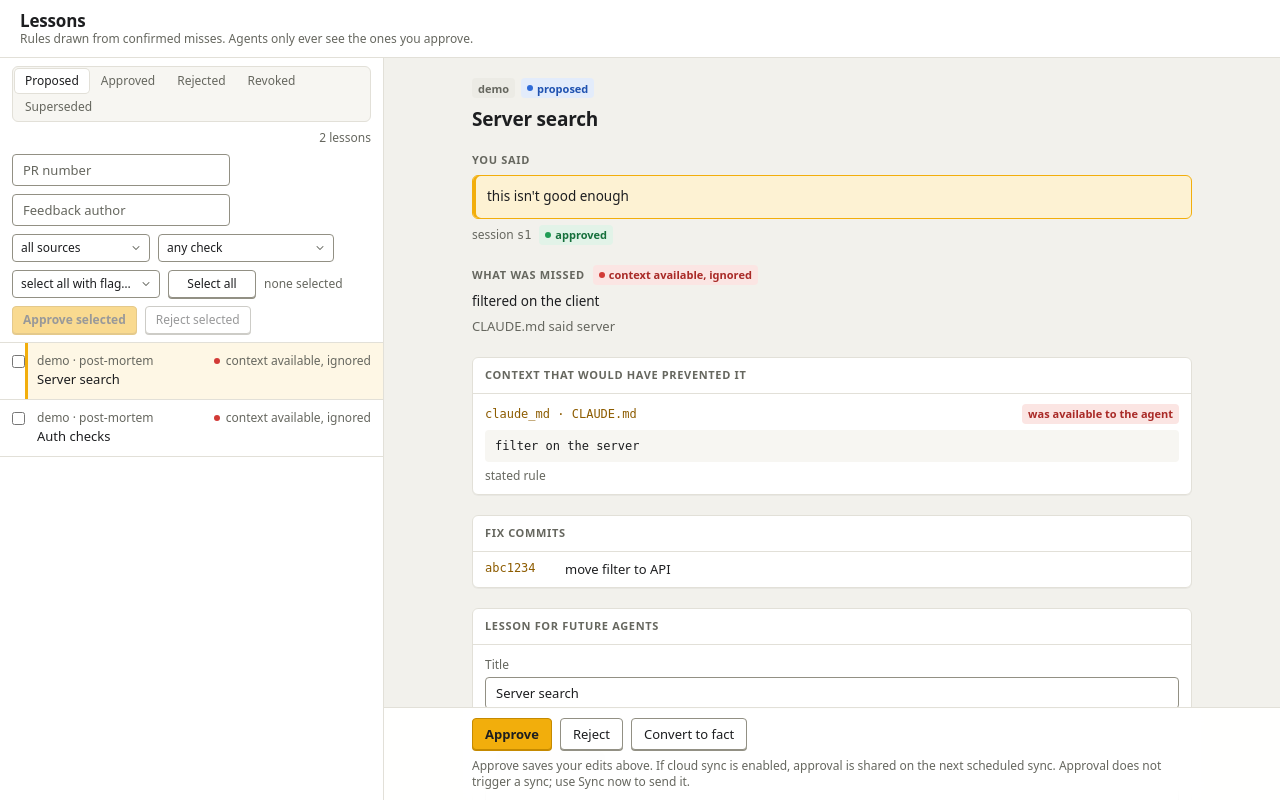
Test: an error goes away once the next change succeeds
Click the button "Reject": (591, 734) x1=560 y1=718 x2=623 y2=750
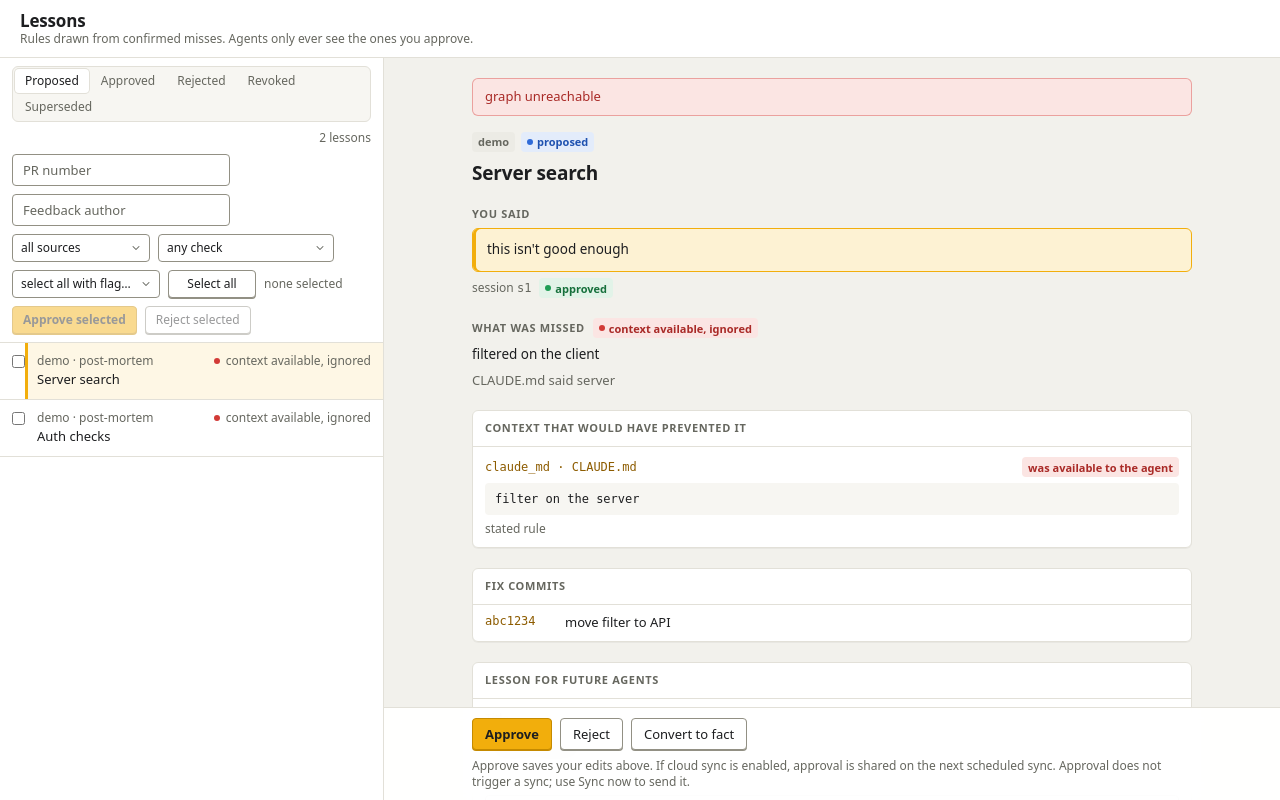
Now the text "graph unreachable" is shown, box x1=472 y1=78 x2=1192 y2=116
Click the button "Reject": (591, 734) x1=560 y1=718 x2=623 y2=750
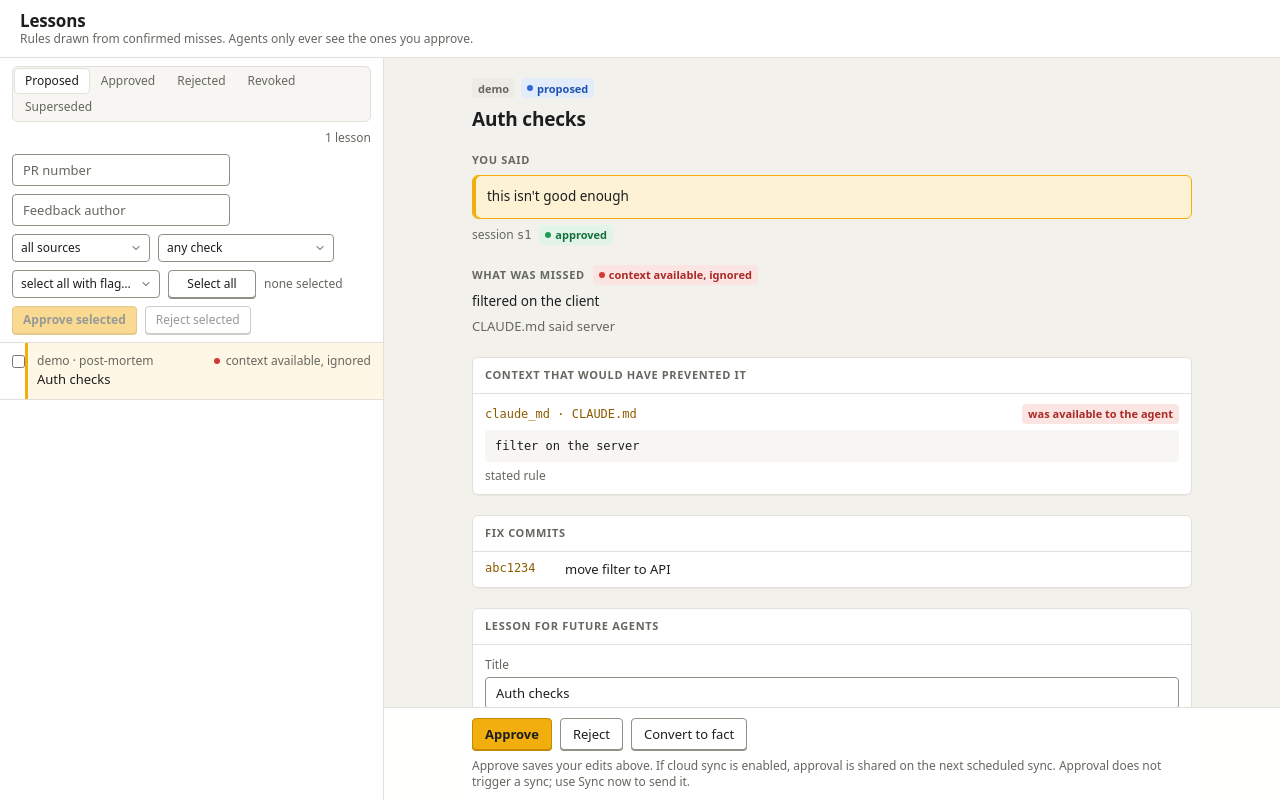
Now the text "graph unreachable" is gone
